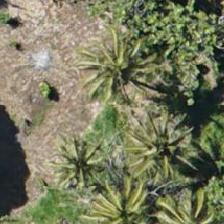coconut_tree: (118, 113, 208, 203), (81, 22, 171, 112), (39, 117, 129, 207), (70, 28, 160, 118), (88, 169, 178, 223)
